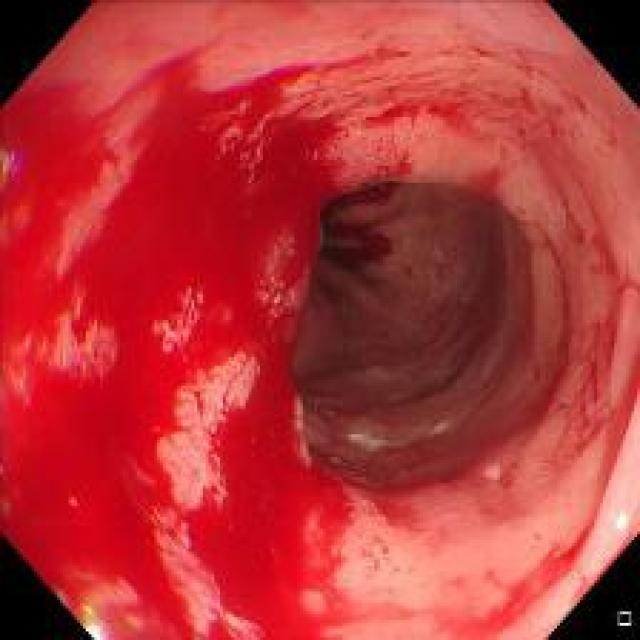blood: (5, 38, 350, 626), (346, 49, 586, 140), (434, 525, 596, 638), (556, 279, 638, 456), (559, 195, 636, 294), (308, 156, 411, 211), (315, 220, 390, 275), (468, 160, 511, 206)
color misalignment: (0, 141, 26, 195), (74, 600, 106, 638)
specularity: (612, 509, 630, 534)
